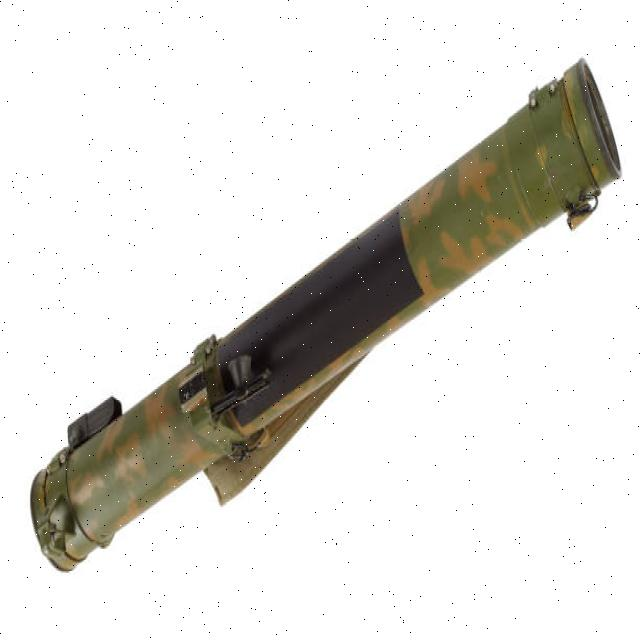bazooka: (25, 49, 628, 582)
